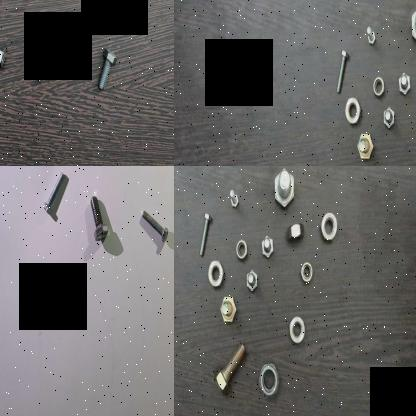Bolts: (212, 338, 247, 402), (85, 193, 112, 252), (42, 168, 70, 223), (138, 204, 170, 252), (330, 50, 352, 101), (192, 213, 214, 264), (270, 166, 296, 209), (30, 34, 52, 84), (95, 44, 117, 87), (354, 128, 375, 162), (218, 292, 238, 326), (379, 104, 398, 134), (242, 267, 260, 297), (398, 70, 412, 99), (260, 233, 274, 262), (407, 2, 416, 46), (0, 34, 9, 69), (364, 23, 376, 47), (228, 186, 239, 210)
NUTS: (256, 360, 280, 404), (318, 209, 339, 247), (286, 314, 307, 348), (285, 218, 307, 247), (344, 94, 362, 128), (298, 258, 318, 286), (208, 258, 224, 292), (369, 75, 387, 101), (232, 238, 250, 264)
